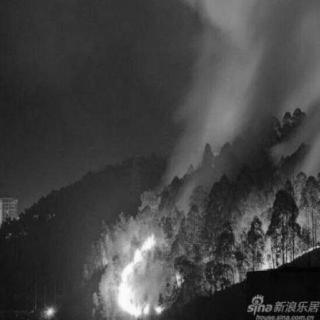Fire: (100, 224, 182, 316), (224, 228, 304, 266)
